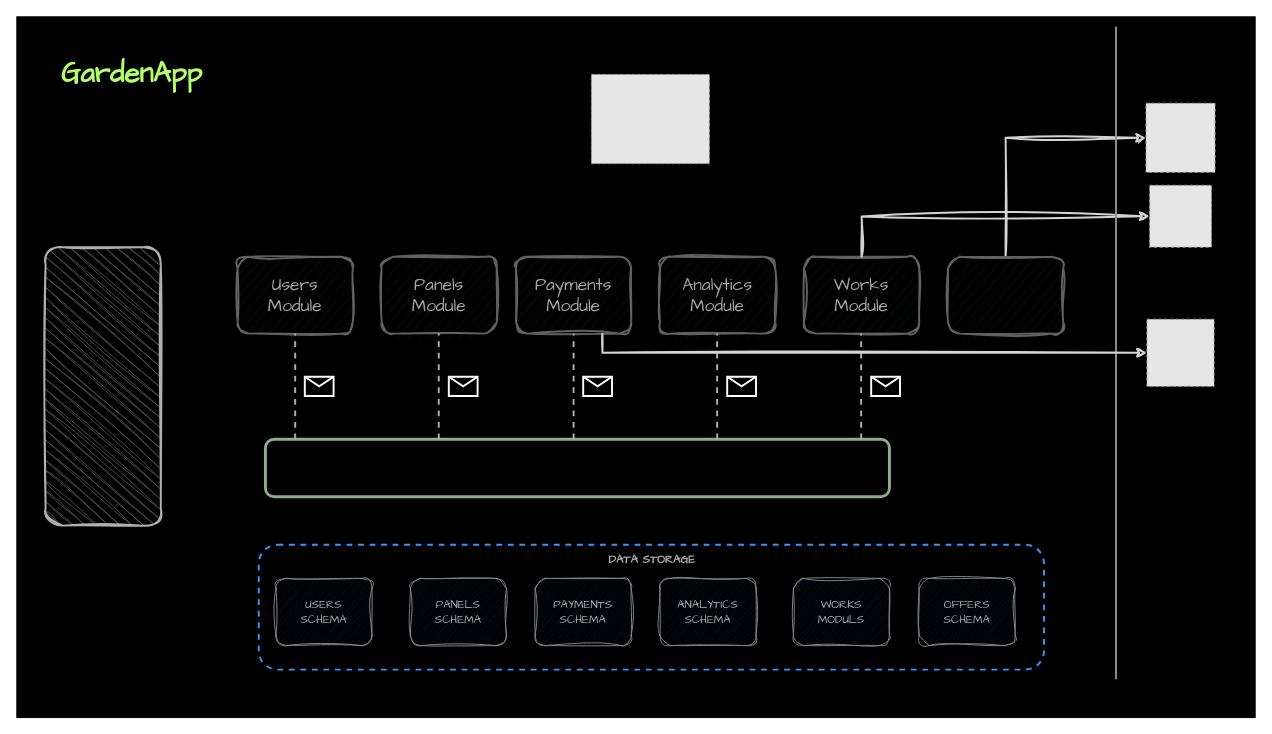
Image size: 1272x734. Some labels were removed from this diagram. Grey dashed boxes stand in for pictures. Here are the shapes that lost their labels. From the top down, the box of each, then its label:
(947, 255, 1064, 334): Offers Module
(44, 246, 161, 526): Building Blocks
(264, 437, 890, 498): EVENT BUS
